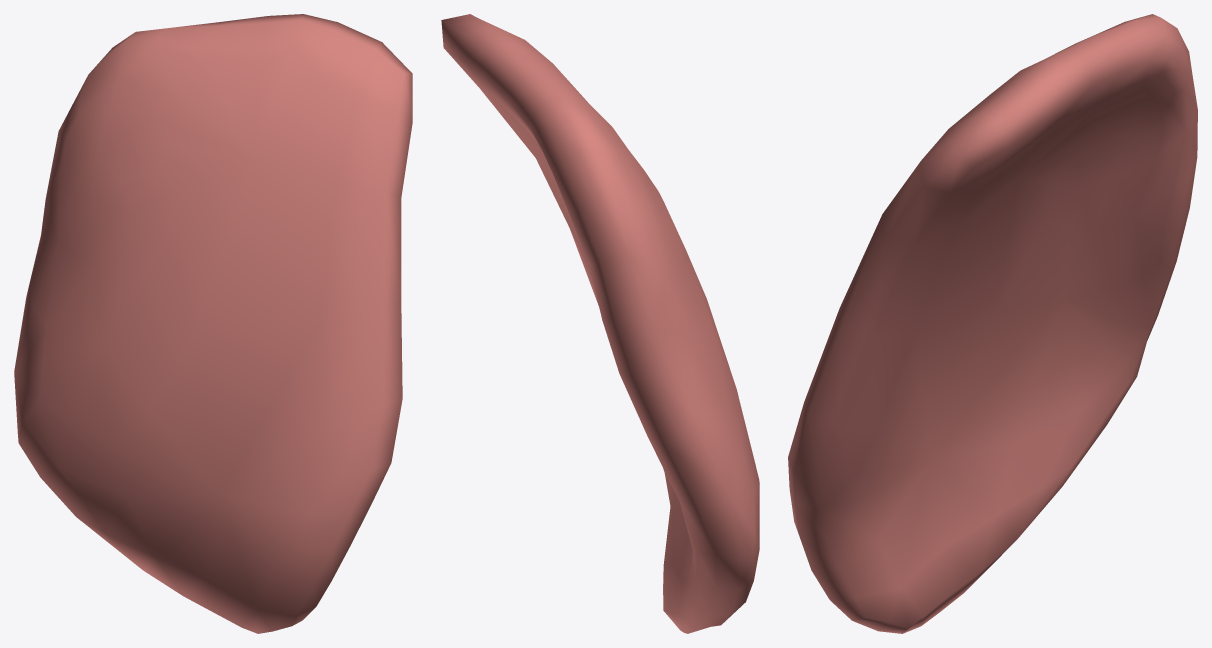
The picture shows the model from 3 angles, left to right: view 1: azimuth 30°, elevation 25°; view 2: azimuth 150°, elevation 25°; view 3: azimuth 270°, elevation 25°; orthographic projection. The views are drawn at different scales.
Visible parts, largest first — view 1: ZA_8ab56e388945d3ab; view 2: ZA_8ab56e388945d3ab; view 3: ZA_8ab56e388945d3ab.
Boxes of the visible parts, x1=… form: ZA_8ab56e388945d3ab: x1=14, y1=14, x2=412, y2=633; ZA_8ab56e388945d3ab: x1=441, y1=14, x2=759, y2=633; ZA_8ab56e388945d3ab: x1=788, y1=14, x2=1197, y2=633.
Bounding box in the file's own units: 0.00321 × 0.00502 × 0.00297.
